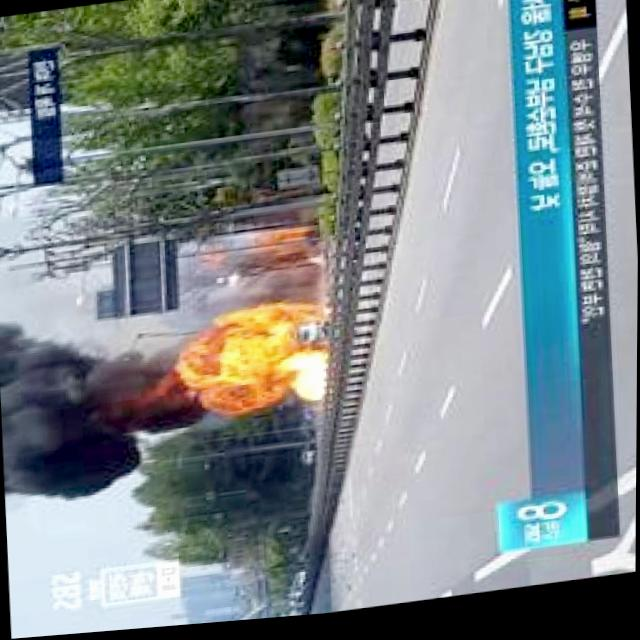Fire: (206, 305, 331, 411)
Smoke: (0, 304, 175, 509)
